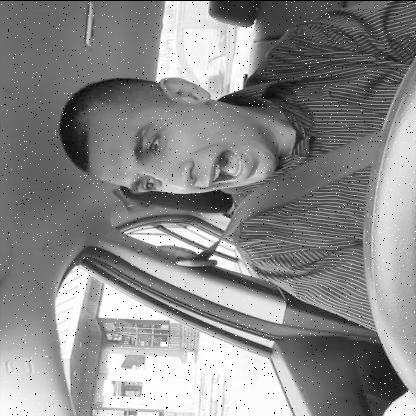seatbelt: (53, 59, 389, 272)
